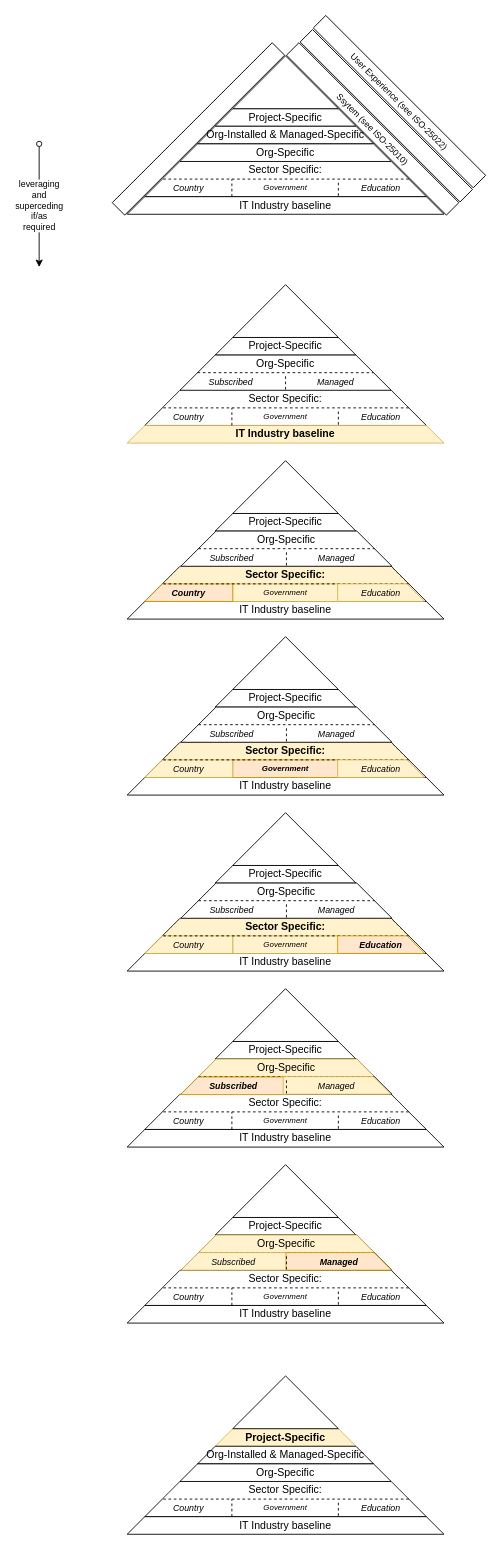
Image size: 502x1551. Some labels were removed from this diagram. Here are the shapes that lost their labels. From the top down, the box of each, then its label:
(111, 42, 285, 215): Custom
(299, 29, 473, 202): Information (see ISO-25012)
